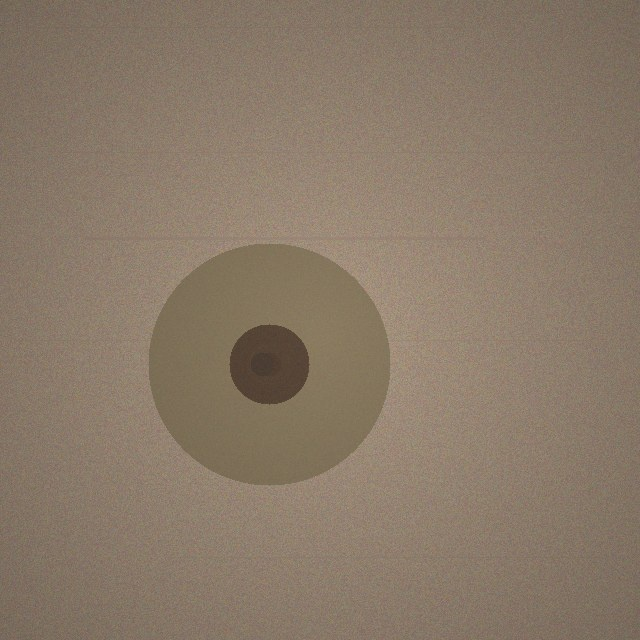cold_weld: (148, 243, 390, 485)
